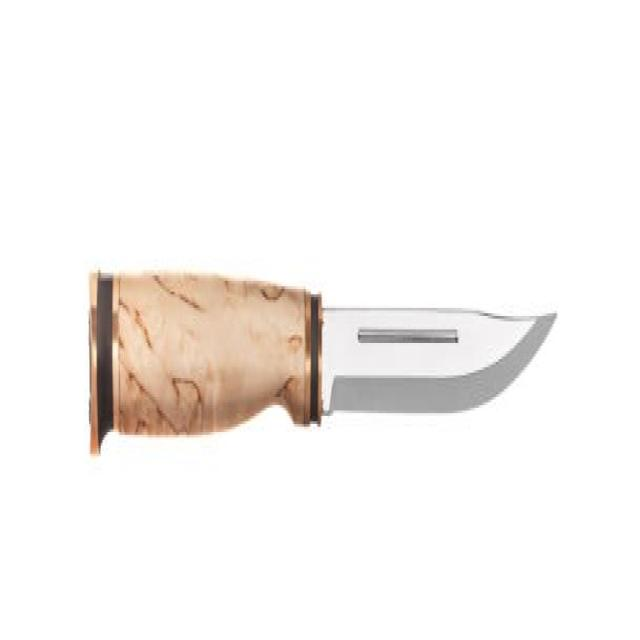knife: (86, 284, 560, 464)
